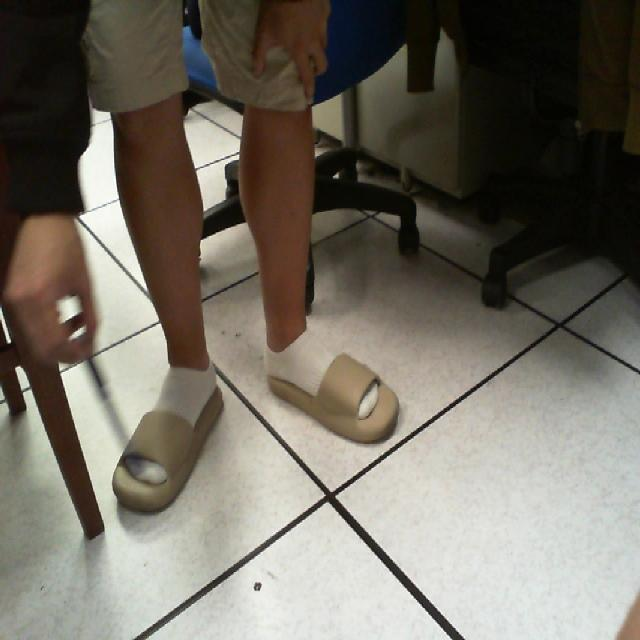Pen: (69, 319, 162, 494)
